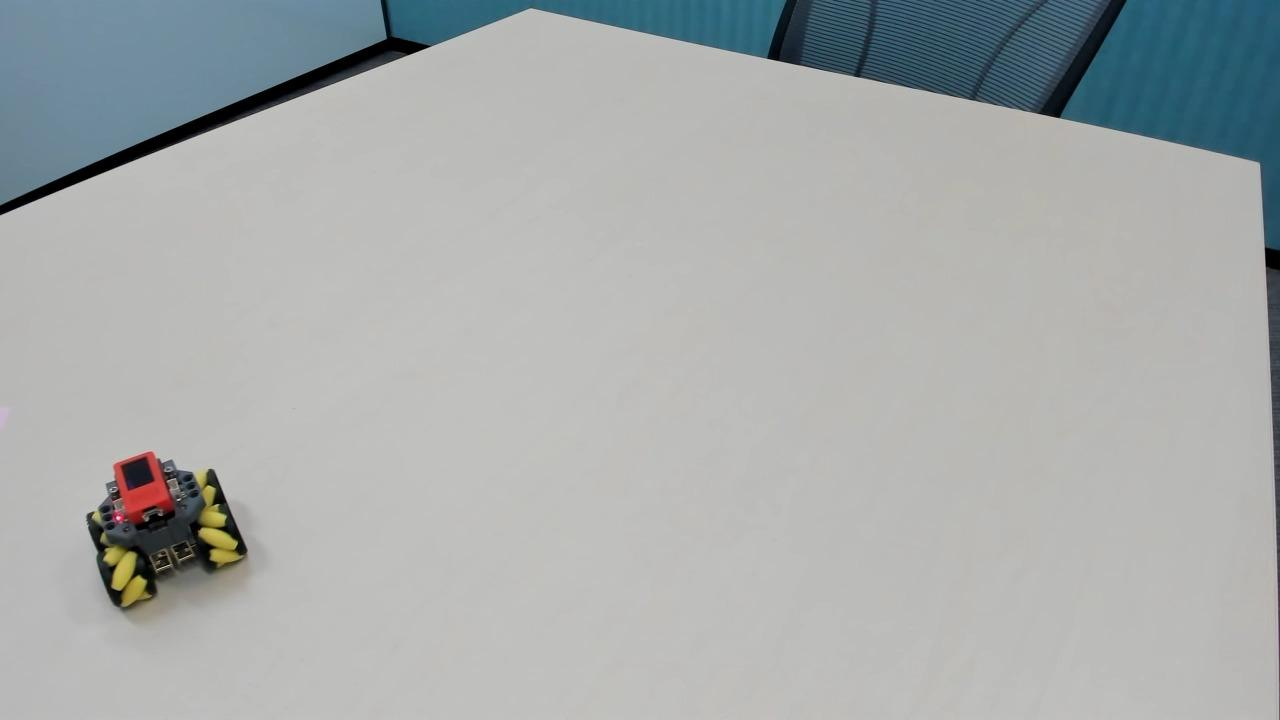R-Robot: (69, 445, 253, 618)
